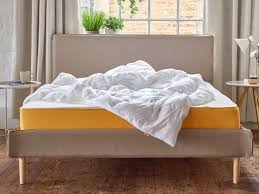bed-matress: (19, 76, 242, 131)
